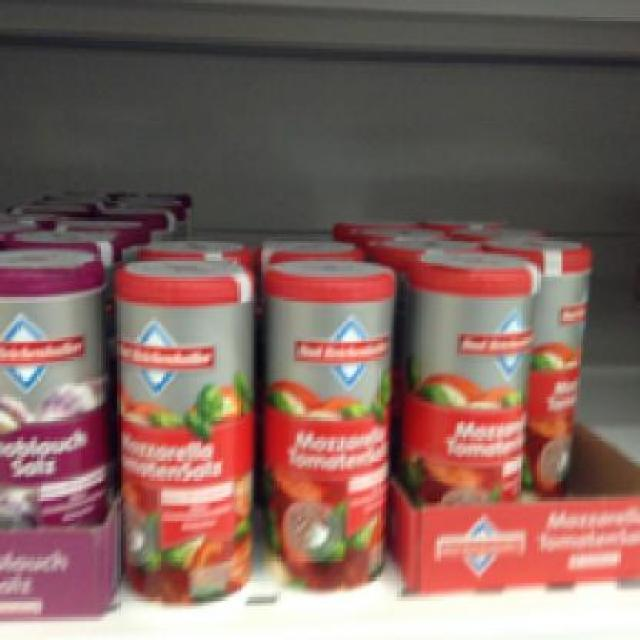Spices: (108, 250, 254, 606), (260, 250, 394, 586), (402, 246, 535, 500), (0, 243, 106, 523)
